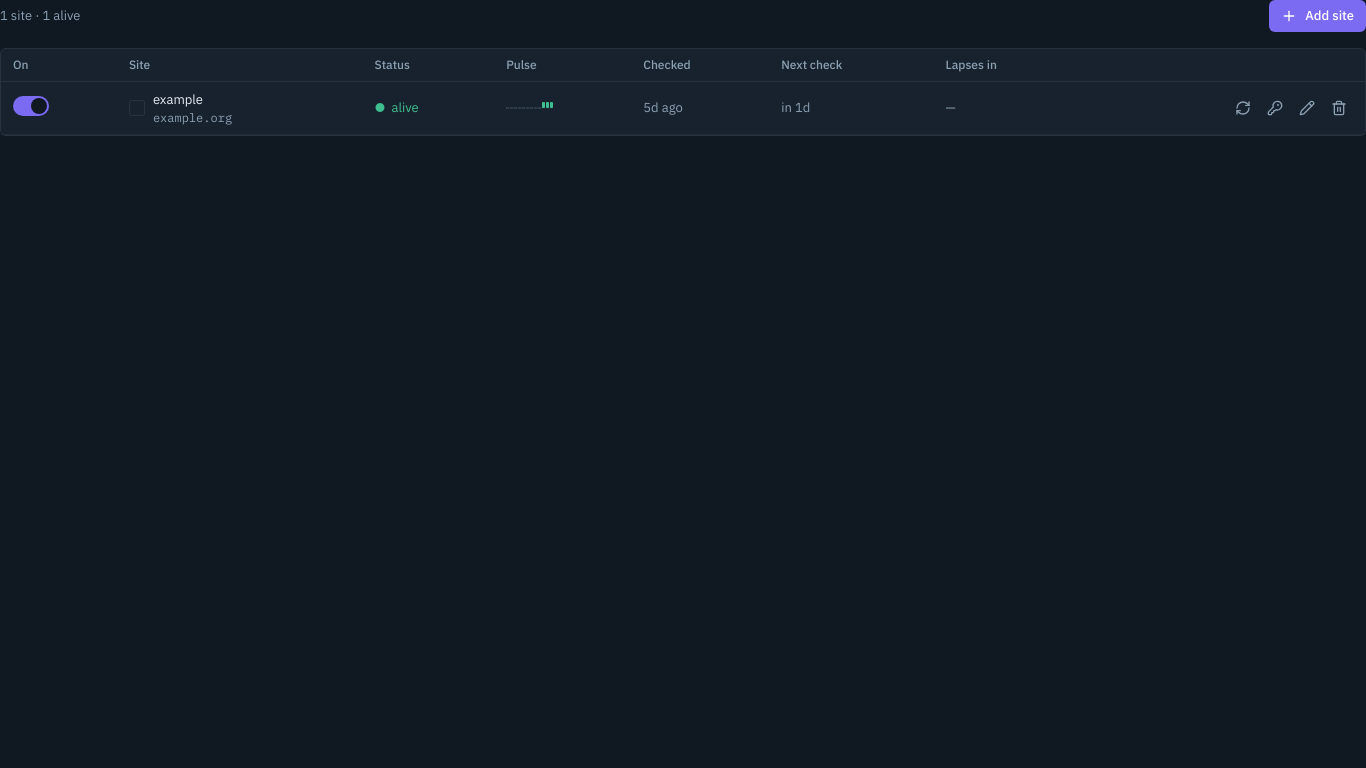
it: Sites › prefills the form when editing, and keeps the site's own values
The image size is (1366, 768).
Expected: the text "example" is shown, [153,91,203,108]
Click the button named "Edit example".
click(1307, 108)  # box [1293,94,1321,122]
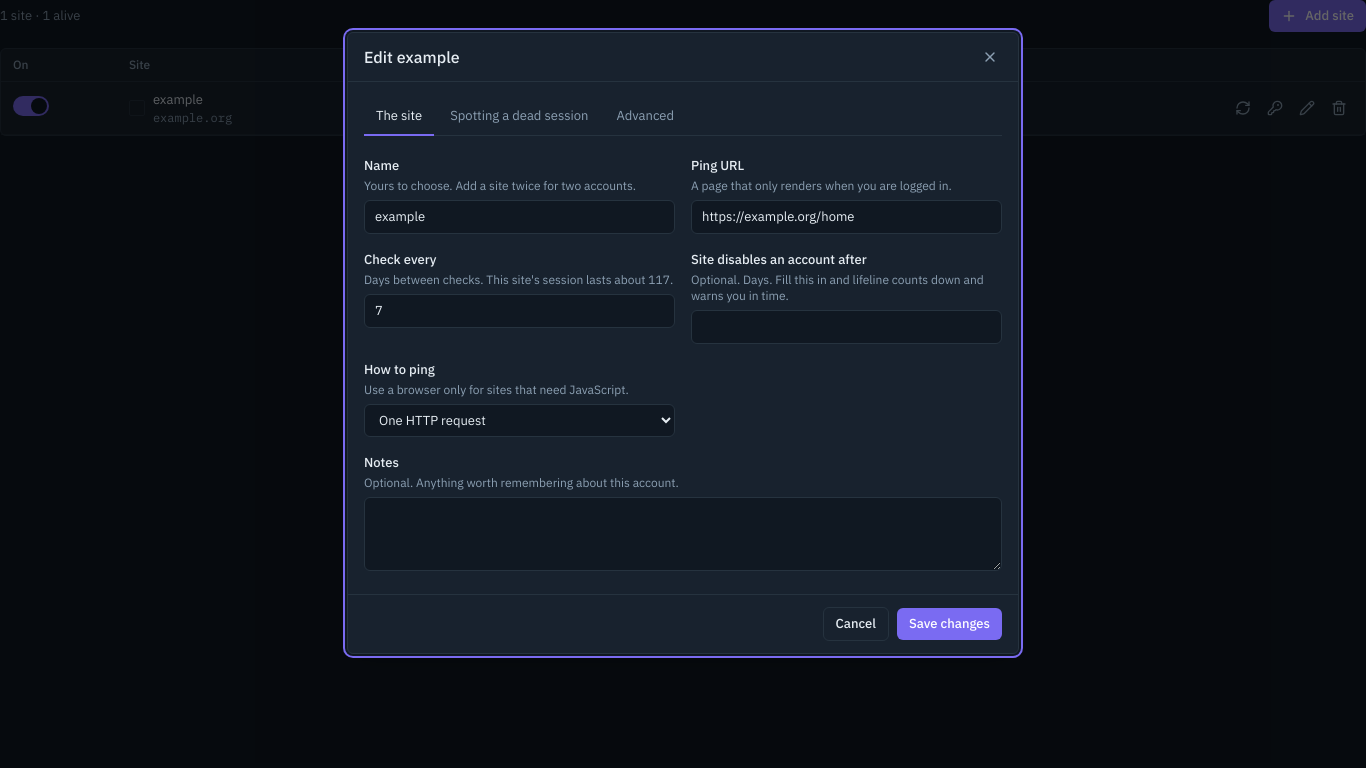
Result: the field labelled "Name" holds "example" at [364,200,675,234]
Click the tab "Advanced".
click(645, 117)  # box [604,98,686,136]
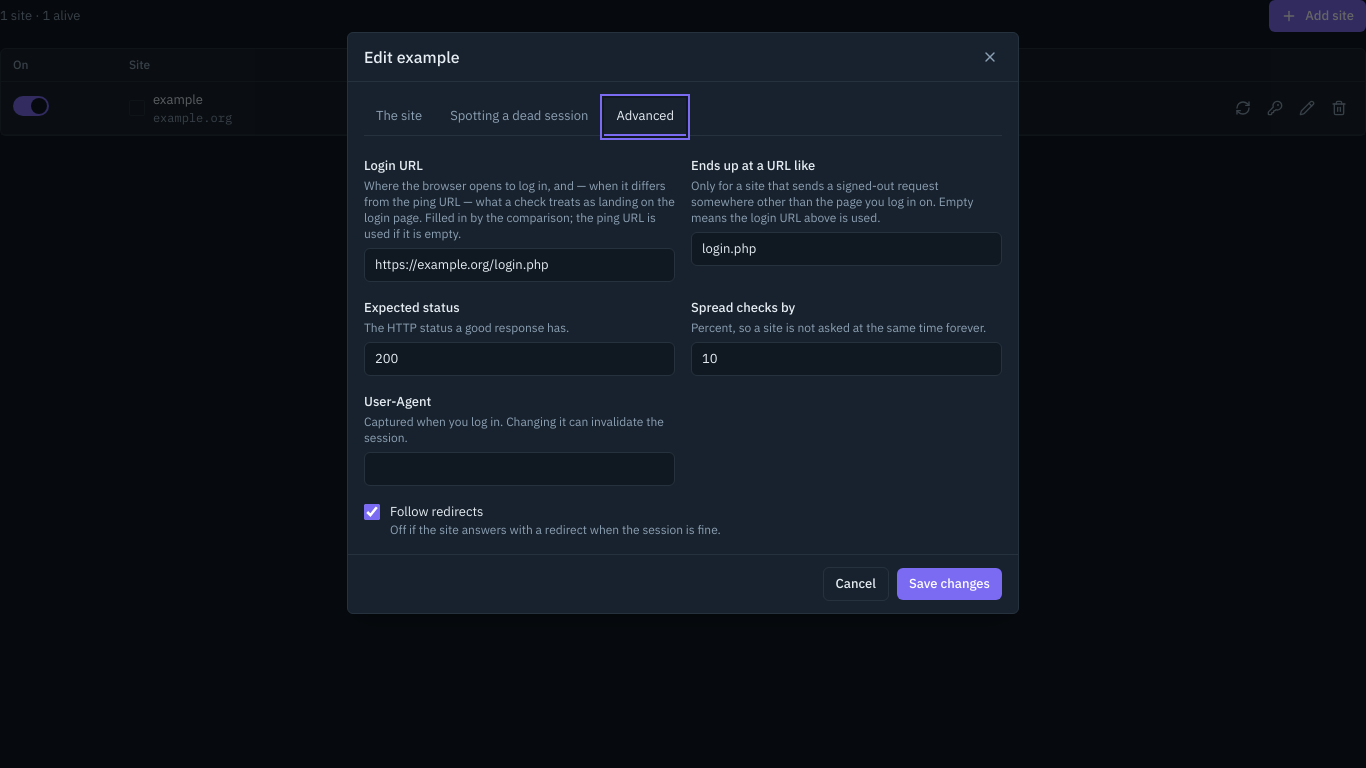
Result: the field labelled "Ends up at a URL like" holds "login.php" at [691,232,1002,266]
